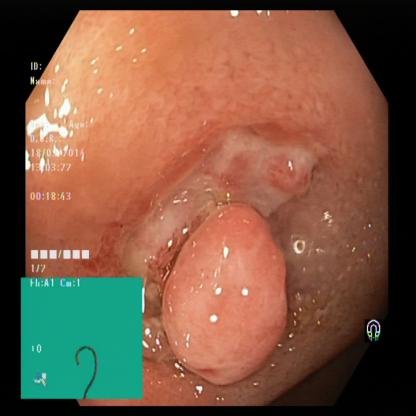Labels: (24, 49, 131, 277), (21, 278, 144, 400)
Polyps: (150, 201, 294, 388)
